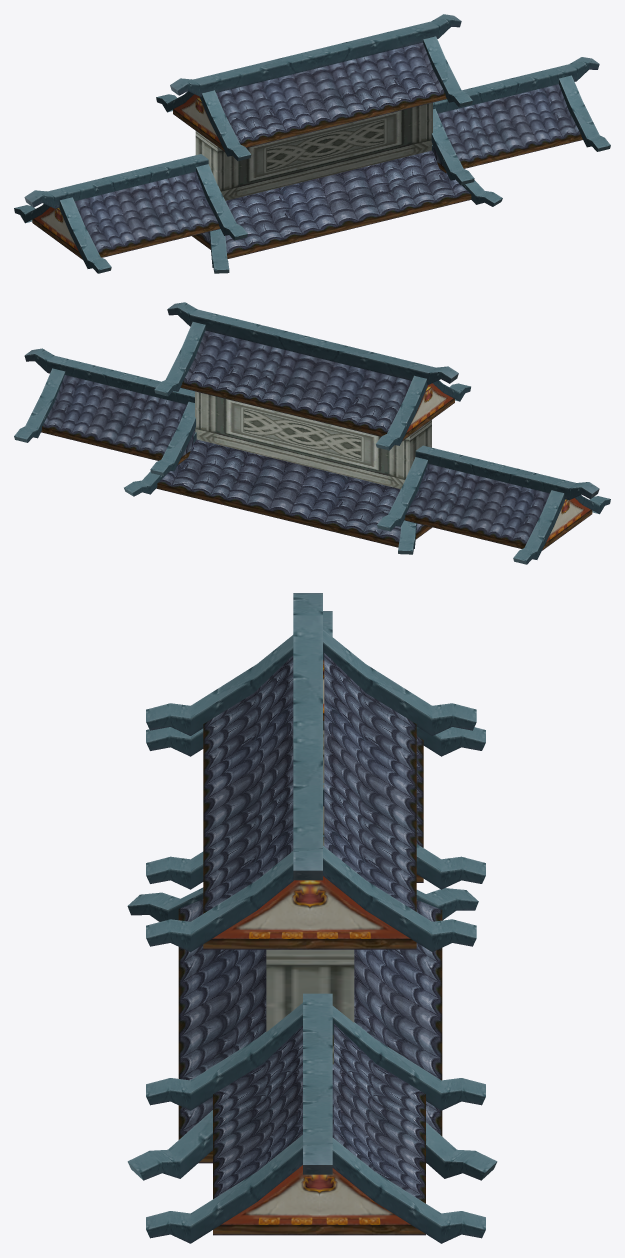
Rendered from szc_building_12a_ding.FBX.
The picture shows the model from 3 angles, top to bottom: view 1: azimuth 30°, elevation 25°; view 2: azimuth 150°, elevation 25°; view 3: azimuth 270°, elevation 25°; orthographic projection. The views are drawn at different scales.
Visible parts, largest first — view 1: szc_building_12_ding; view 2: szc_building_12_ding; view 3: szc_building_12_ding.
Part boxes in pixels (x1,y1,x2,y2): szc_building_12_ding: [14, 14, 610, 273]; szc_building_12_ding: [14, 302, 610, 564]; szc_building_12_ding: [127, 593, 497, 1243].
Size of the model in its own units: 809 by 221 by 228.
